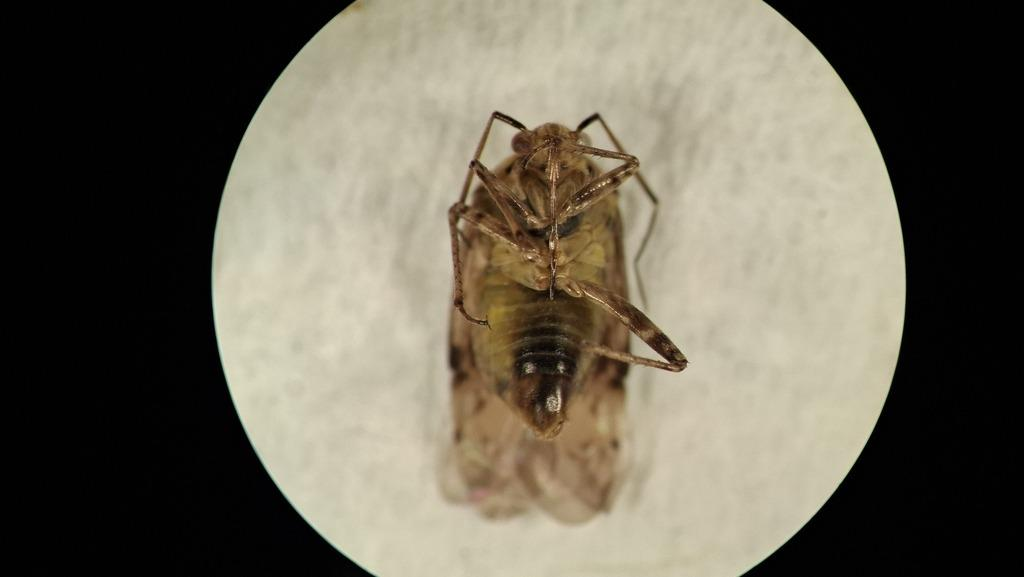plant_bugs: (374, 59, 727, 560)
